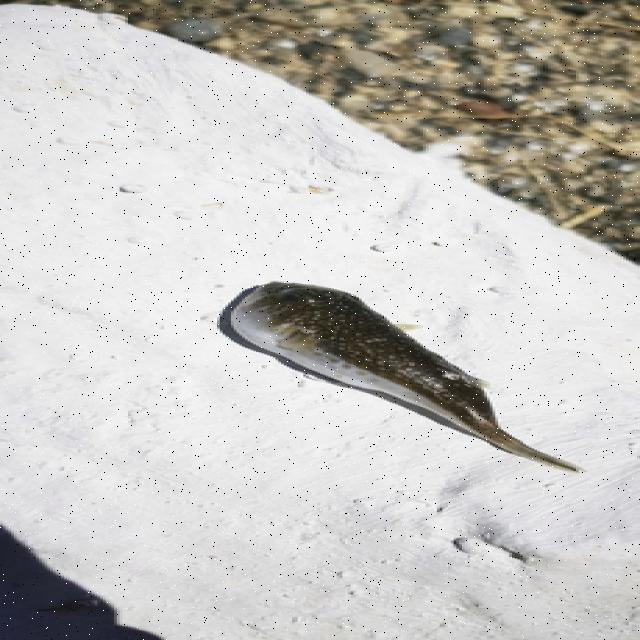Balik: (231, 282, 581, 471)
